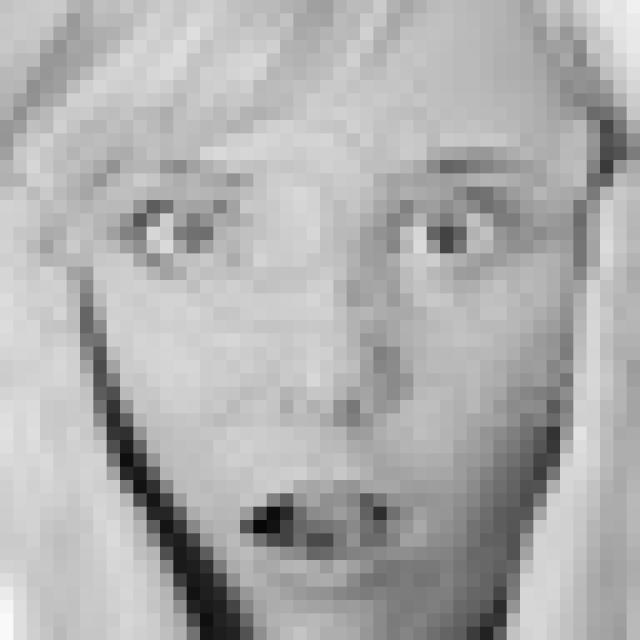surprise: (106, 136, 587, 594)
